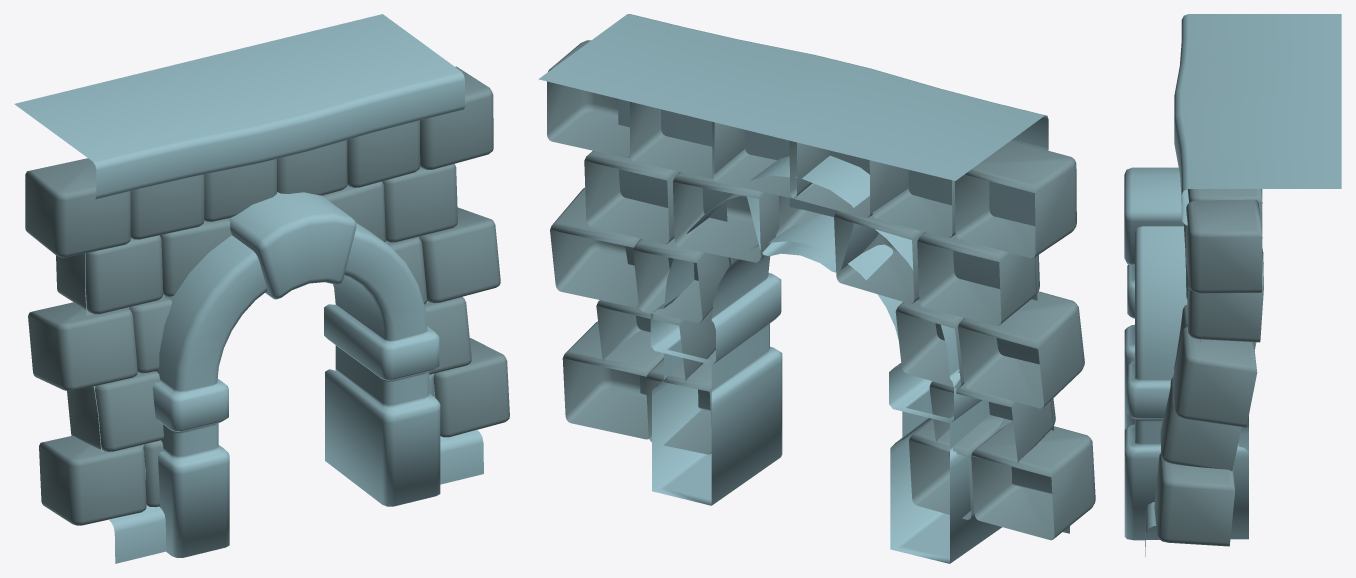
File: 3_Door.glb
3 renders of one model, left to right at view 1: azimuth 30°, elevation 25°; view 2: azimuth 150°, elevation 25°; view 3: azimuth 270°, elevation 25°, orthographic. The views are drawn at different scales.
Parts seen in each view (by area): view 1: 3_Door; view 2: 3_Door; view 3: 3_Door.
Boxes of the visible parts, x1,y1,x2,y2 form: 3_Door: (14,14,509,563); 3_Door: (538,14,1095,563); 3_Door: (1124,14,1341,556).
Size of the model in its own units: 4.74 by 4 by 2.1.
